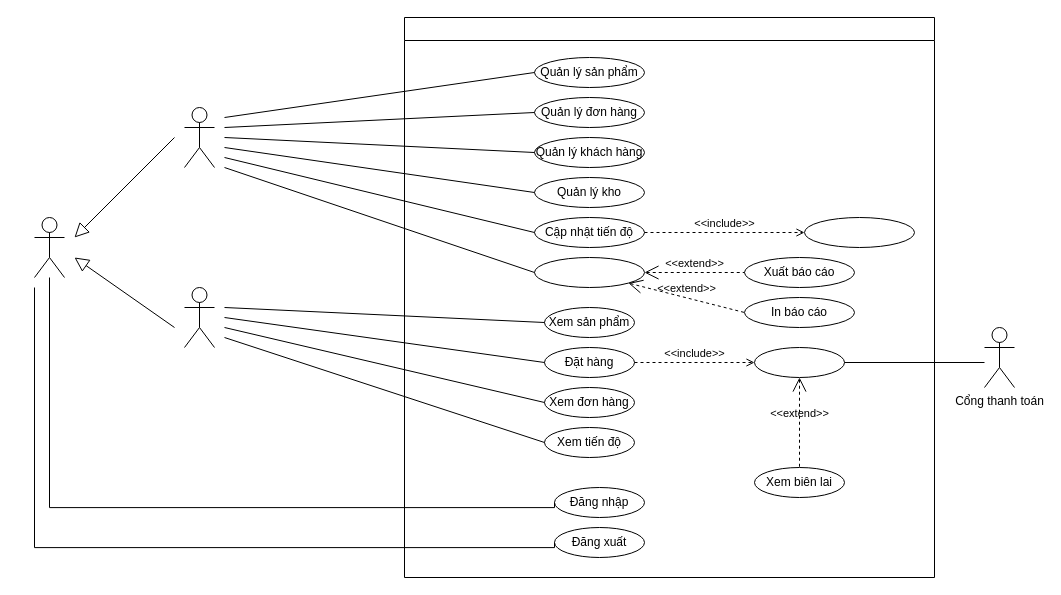
Image size: 1061x595. Some labels were removed from this diagram. Here are the shapes that lost their labels. From the top down, the box of each, then its label:
(184, 106, 214, 168): Admin
(34, 216, 64, 278): Người dùng
(804, 216, 914, 248): Gửi thông báo
(534, 256, 644, 288): Xem báo cáo
(184, 286, 214, 348): Khách hàng
(404, 16, 934, 578): Hệ thống quản lý dịch vụ pre-order merchandise
(754, 346, 844, 378): Thanh toán
